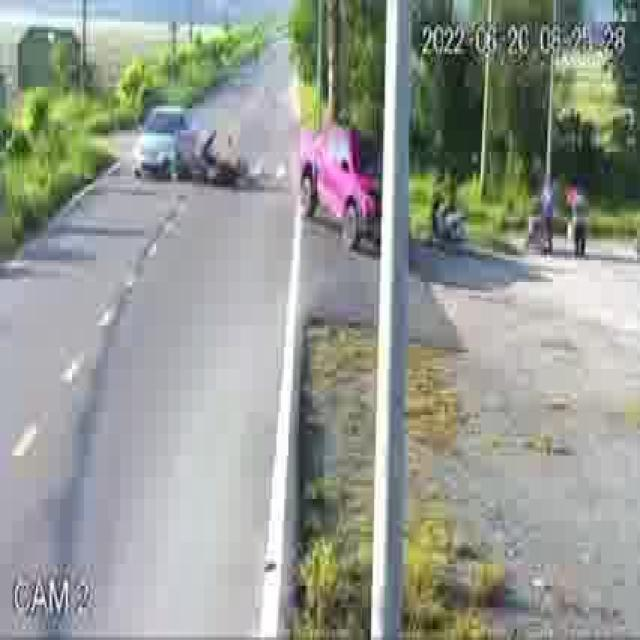multiple_accident: (126, 89, 250, 195)
